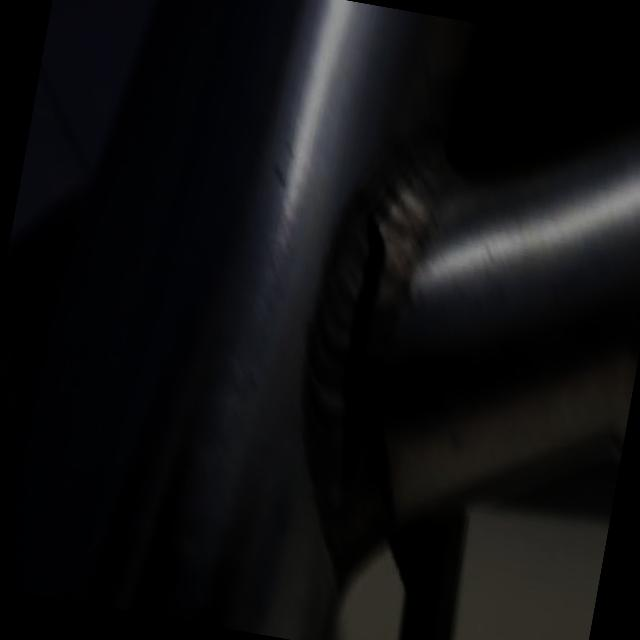crack: (321, 212, 396, 480)
